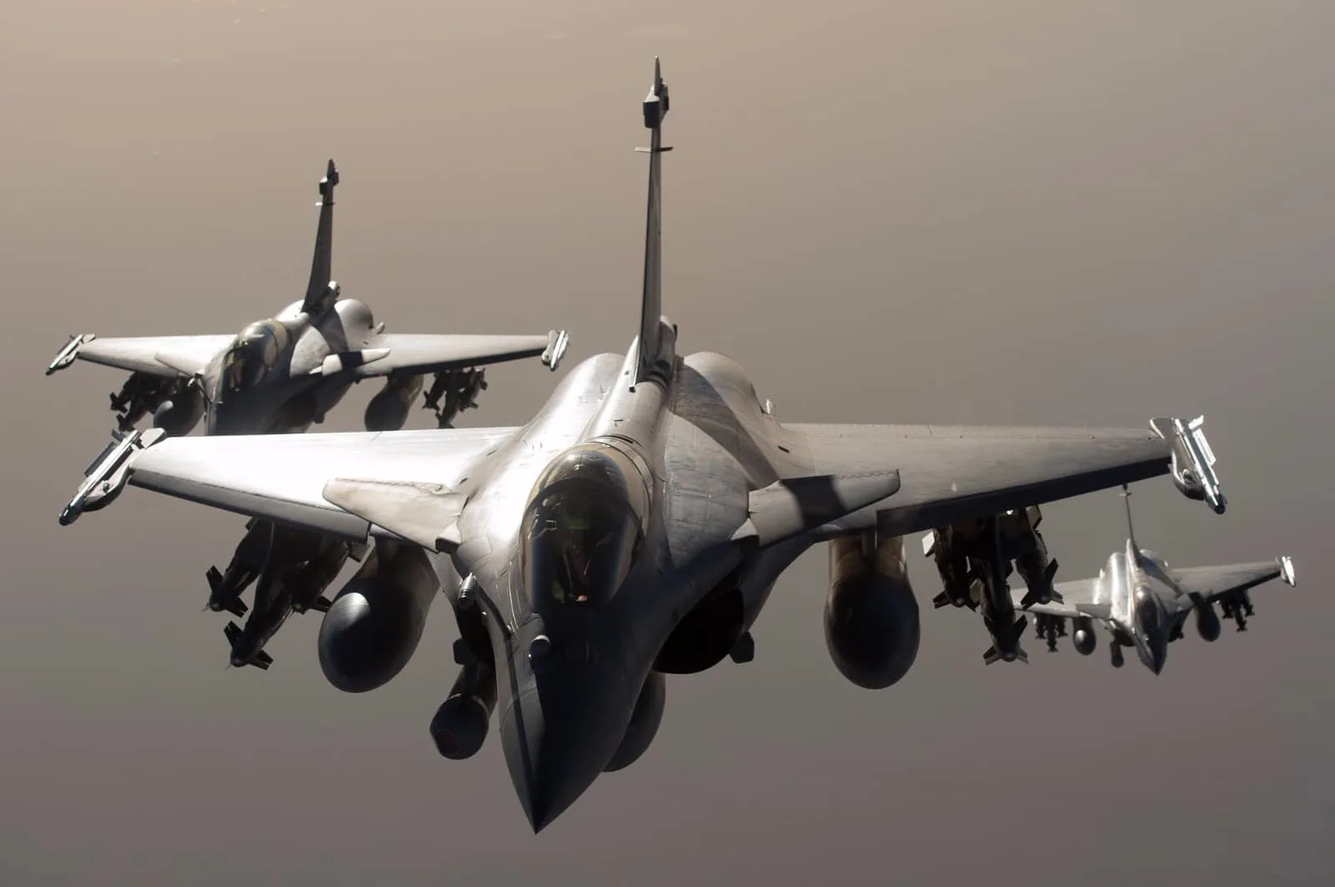Rafale: (123, 58, 1235, 838), (40, 154, 577, 532), (1014, 477, 1297, 683)
